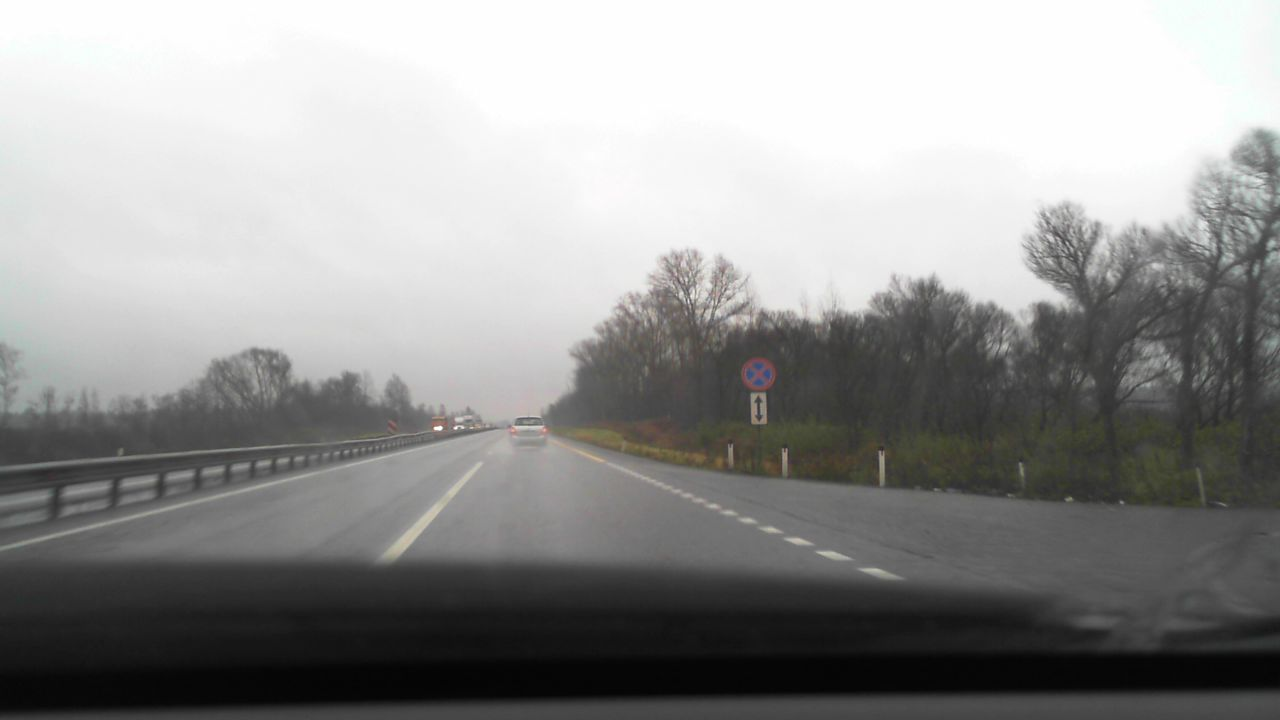No Parking: (741, 357, 776, 391)
